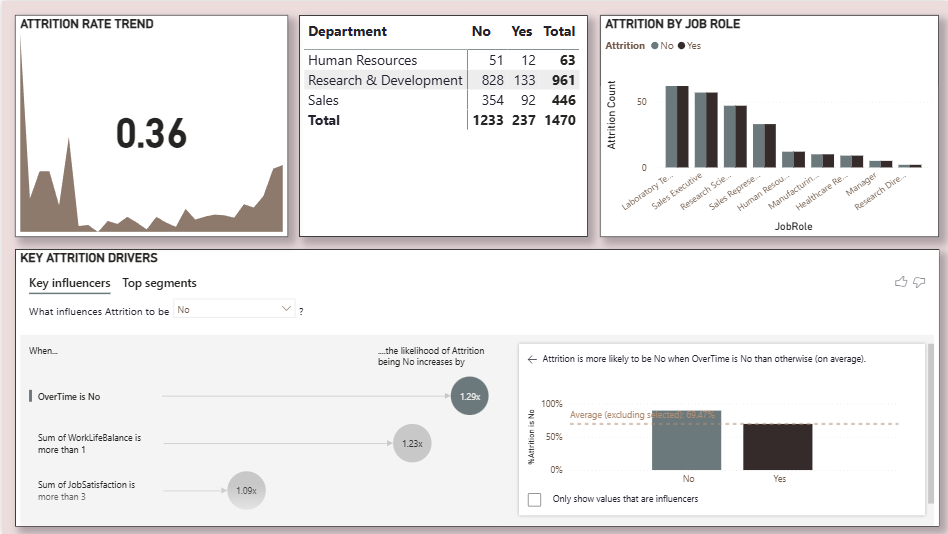

What the dashboard file says about the page in this screenshot:
{"tool":"powerbi","page":{"name":"Attrition Analysis","canvas":[1280,720],"ordinal":1},"visuals":[{"type":"clusteredColumnChart","title":"ATTRITION BY JOB ROLE","fields":{"Category":["HR_Employee_dataset.JobRole"],"Y":["DateTable.Attrition Count"],"Series":["HR_Employee_dataset.Attrition"]},"box":[808,18.6,457.7,300.3],"z":0},{"type":"pivotTable","fields":{"Rows":["HR_Employee_dataset.Department"],"Columns":["HR_Employee_dataset.Attrition"],"Values":["Sum(HR_Employee_dataset.EmployeeCount)"]},"box":[401.9,18.6,390.4,300.3],"z":1000},{"type":"keyDriversVisual","title":"KEY ATTRITION DRIVERS","fields":{"Target":["HR_Employee_dataset.Attrition"],"ExplainBy":["HR_Employee_dataset.OverTime","Sum(HR_Employee_dataset.WorkLifeBalance)","Sum(HR_Employee_dataset.JobSatisfaction)"]},"box":[17.2,334.7,1248.5,374.7],"z":3000},{"type":"kpi","title":"ATTRITION RATE TREND","fields":{"TrendLine":["HR_Employee_dataset.HireMonthYear"],"Indicator":["HR_Employee_dataset.Attrition Rate"]},"box":[17.2,18.6,369,300.3],"z":4000}]}

Visuals, with their boxes in screenshot pixels (x1, y1, x2, y2), scaled from the page's 1280x720 canvas onto the 948x534 screenshot:
"ATTRITION BY JOB ROLE" clusteredColumnChart: [x1=598, y1=14, x2=937, y2=237]
pivotTable - HR_Employee_dataset.Department x HR_Employee_dataset.Attrition: [x1=298, y1=14, x2=587, y2=237]
"KEY ATTRITION DRIVERS" keyDriversVisual: [x1=13, y1=248, x2=937, y2=526]
"ATTRITION RATE TREND" kpi: [x1=13, y1=14, x2=286, y2=237]
